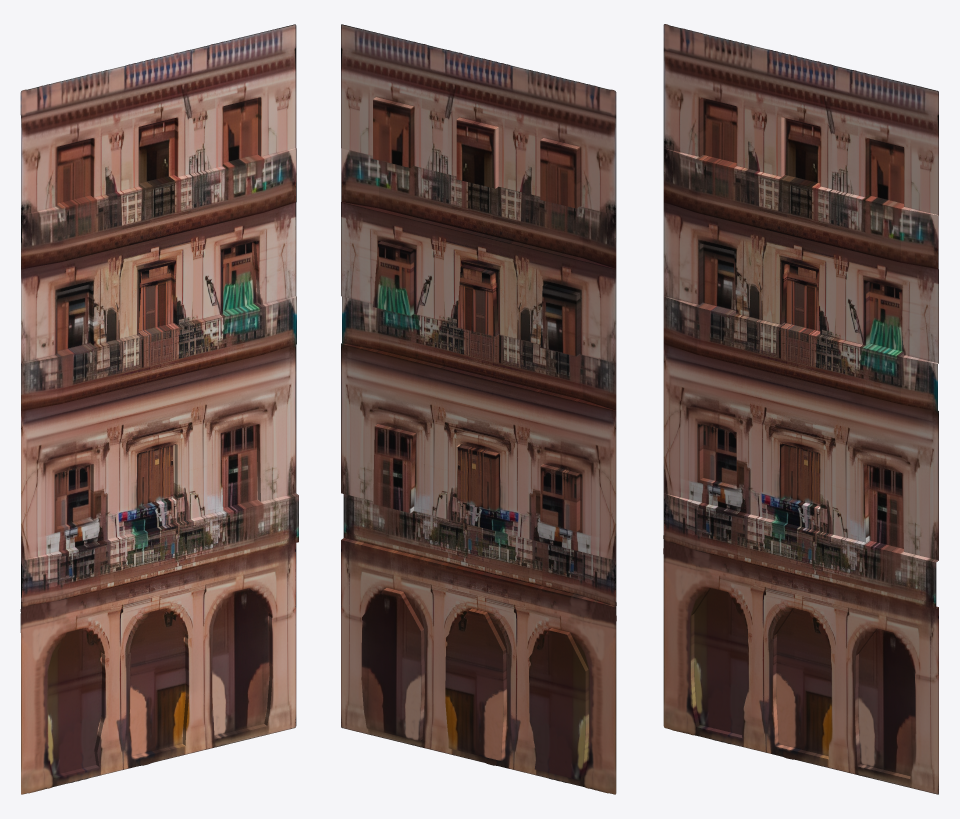
The model's file is Housemain2.fbx.
3 views of the same model, side by side, from view 1: azimuth 30°, elevation 25°; view 2: azimuth 150°, elevation 25°; view 3: azimuth 330°, elevation 25° (orthographic).
Parts seen in each view (by area): view 1: 74660887559; view 2: 74660887559; view 3: 74660887559.
Part boxes in pixels (box(x1,y1,x2,y2)): 74660887559: box(20, 24, 298, 794); 74660887559: box(341, 24, 616, 794); 74660887559: box(663, 24, 938, 794).
Size of the model in its own units: 1140 by 2714 by 40.39.
